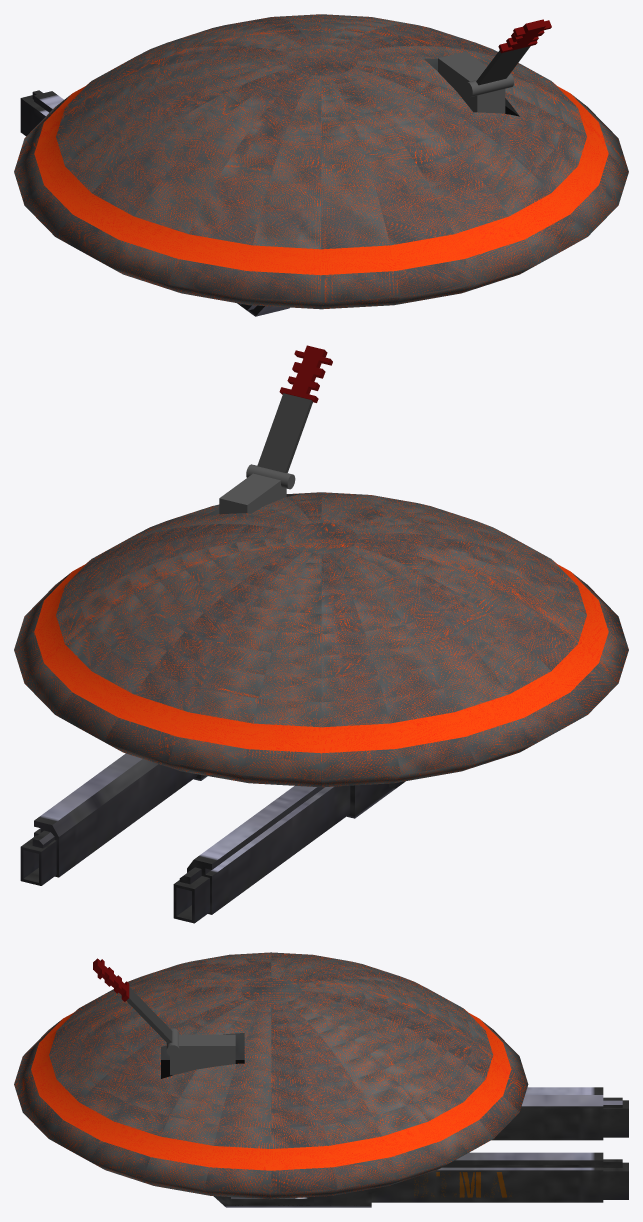
The model's file is defenseturret.fbx.
3 renders of one model, top to bottom at view 1: azimuth 30°, elevation 25°; view 2: azimuth 150°, elevation 25°; view 3: azimuth 270°, elevation 25°, orthographic. The views are drawn at different scales.
Parts seen in each view (by area): view 1: ID385, ID393, ID370, ID433, ID465, ID455, ID511, ID503; view 2: ID385, ID393, ID370, ID503, ID471, ID465, ID433, ID455, ID495, ID511, ID278; view 3: ID385, ID393, ID370, ID471, ID503, ID433, ID194, ID495, ID511, ID465, ID455, ID310 (+1 smaller).
Part boxes in pixels (left/top/right/bottom): ID385: left=56, top=14, right=586, bottom=249; ID393: left=14, top=94, right=628, bottom=309; ID370: left=34, top=82, right=608, bottom=275; ID433: left=438, top=51, right=513, bottom=113; ID465: left=476, top=46, right=530, bottom=85; ID455: left=498, top=19, right=551, bottom=53; ID511: left=20, top=90, right=43, bottom=136; ID503: left=34, top=91, right=63, bottom=127; ID385: left=56, top=492, right=586, bottom=727; ID393: left=14, top=572, right=628, bottom=787; ID370: left=34, top=560, right=608, bottom=753; ID503: left=187, top=785, right=350, bottom=914; ID471: left=34, top=753, right=197, bottom=877; ID465: left=257, top=393, right=312, bottom=472; ID433: left=219, top=464, right=295, bottom=514; ID455: left=279, top=345, right=332, bottom=402; ID495: left=20, top=830, right=56, bottom=885; ID511: left=173, top=867, right=209, bottom=923; ID278: left=347, top=783, right=395, bottom=818; ID385: left=49, top=952, right=493, bottom=1148; ID393: left=14, top=1019, right=528, bottom=1199; ID370: left=31, top=1009, right=511, bottom=1170; ID471: left=371, top=1152, right=603, bottom=1202; ID503: left=491, top=1087, right=603, bottom=1140; ID433: left=166, top=1028, right=235, bottom=1075; ID194: left=213, top=1189, right=371, bottom=1207; ID495: left=603, top=1159, right=628, bottom=1199; ID511: left=603, top=1097, right=628, bottom=1137; ID465: left=126, top=987, right=172, bottom=1043; ID455: left=93, top=958, right=129, bottom=1001; ID310: left=219, top=1196, right=313, bottom=1204.
Bounding box in the file's own units: 31.5 × 37.66 × 17.04.
18 materials, 4 textured.
